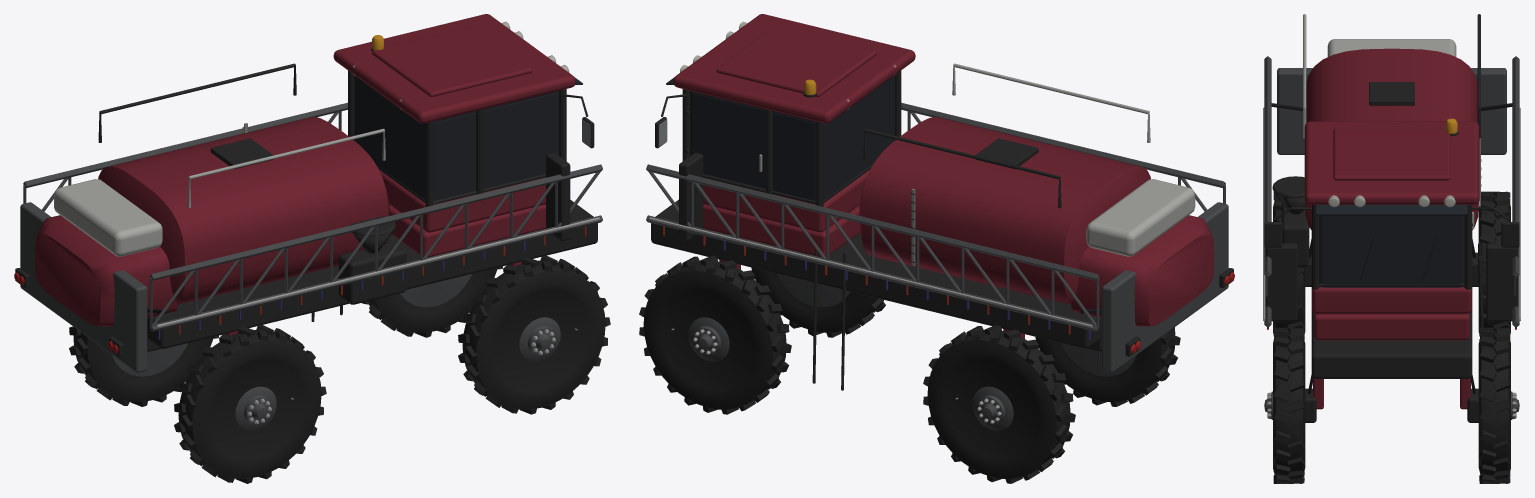
The model's file is SM_Prop_farm_sprayer_1.glb.
The picture shows the model from 3 angles, left to right: view 1: azimuth 30°, elevation 25°; view 2: azimuth 150°, elevation 25°; view 3: azimuth 270°, elevation 25°; orthographic projection.
Visible parts, largest first — view 1: SM_Prop_farm_sprayer_1; view 2: SM_Prop_farm_sprayer_1; view 3: SM_Prop_farm_sprayer_1.
Boxes of the visible parts, bbox=[...] form: SM_Prop_farm_sprayer_1: bbox=[14, 14, 610, 483]; SM_Prop_farm_sprayer_1: bbox=[639, 14, 1234, 483]; SM_Prop_farm_sprayer_1: bbox=[1263, 14, 1520, 483].
Size of the model in its own units: 6.09 by 3.87 by 2.81.
